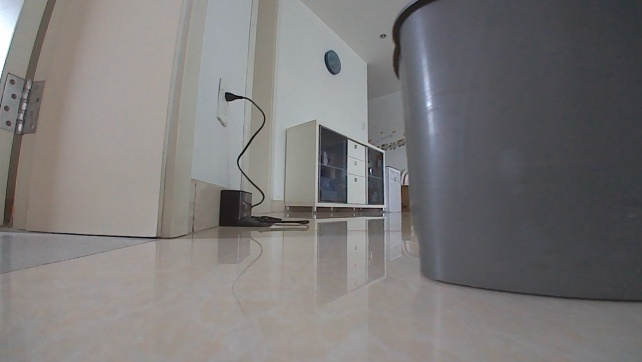charger: (215, 188, 273, 228)
wire: (224, 90, 266, 208), (250, 214, 310, 228)
